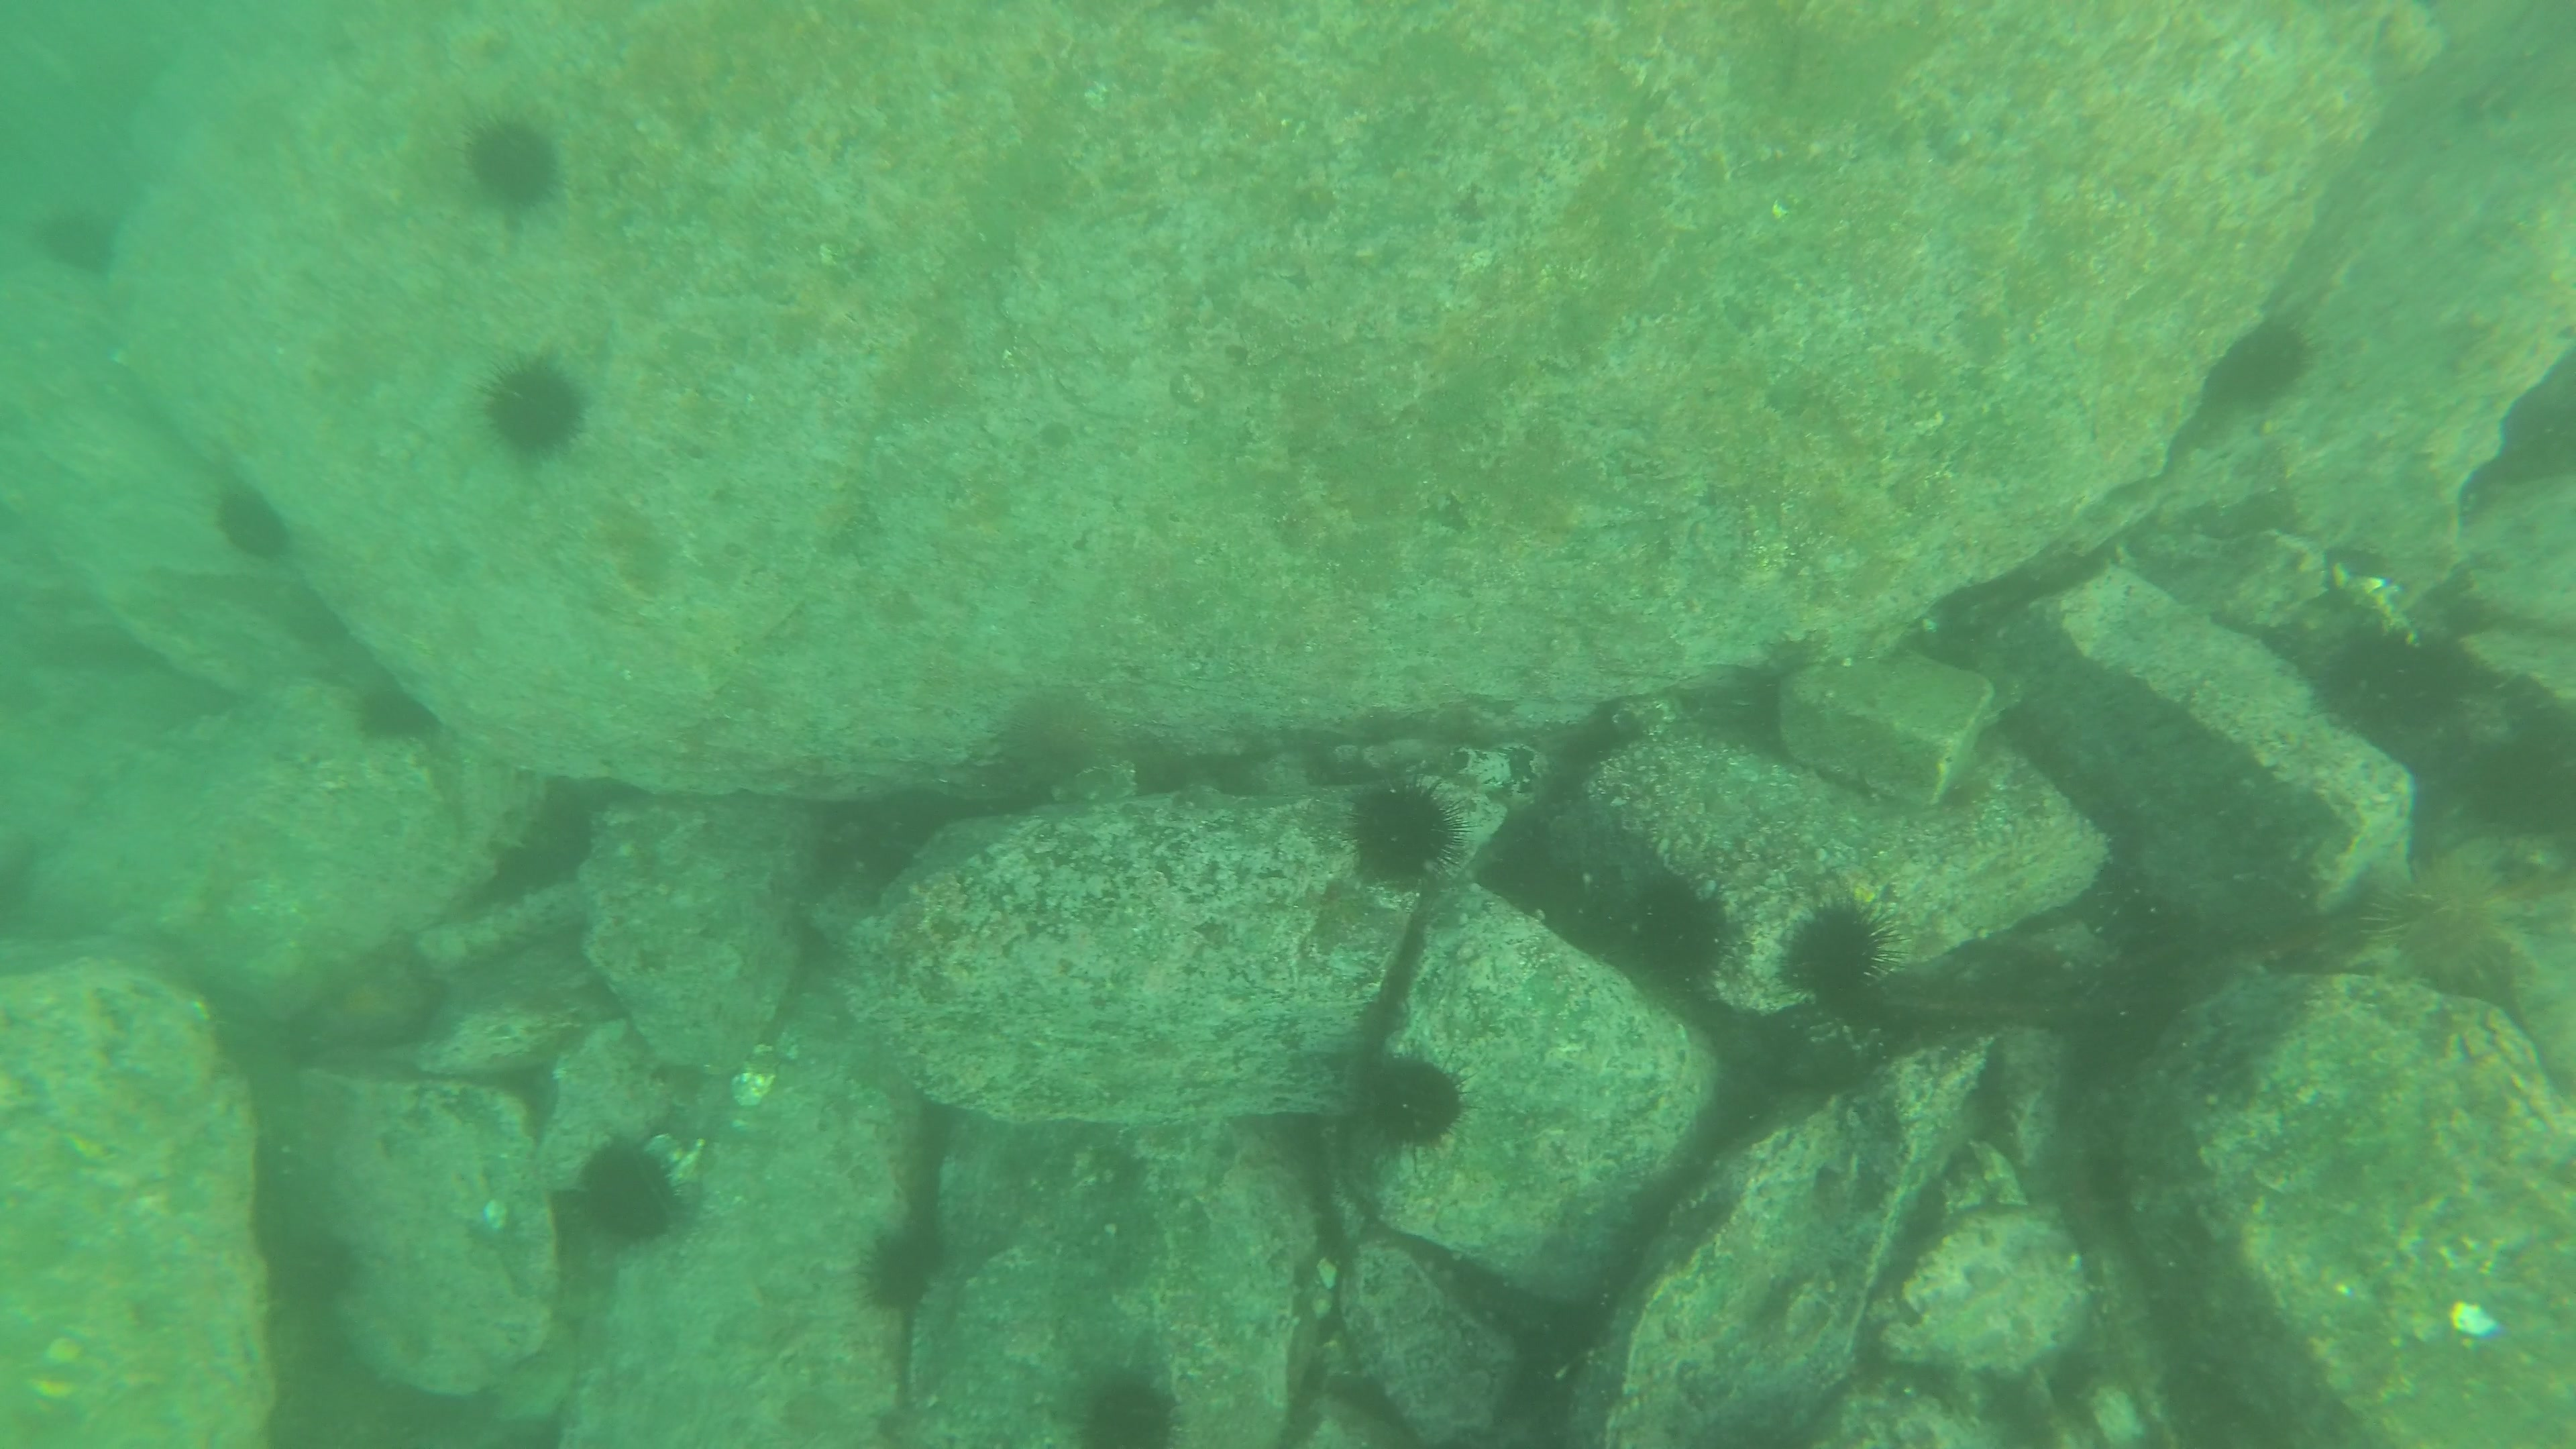echinus: (2376, 842, 2512, 987), (1782, 899, 1905, 1024), (2328, 612, 2459, 731), (1359, 777, 1470, 895), (478, 347, 589, 460), (2197, 318, 2316, 418), (1355, 1047, 1474, 1146), (464, 108, 563, 214), (566, 1152, 678, 1244), (1637, 883, 1727, 982), (1072, 1373, 1184, 1447), (860, 1230, 941, 1322), (352, 679, 453, 743), (209, 492, 295, 559), (32, 209, 122, 271)
